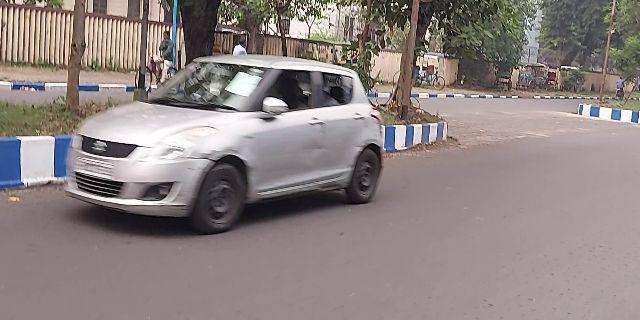Car: (68, 56, 388, 220)
